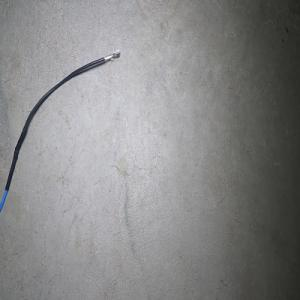Wire: (0, 48, 120, 213)
